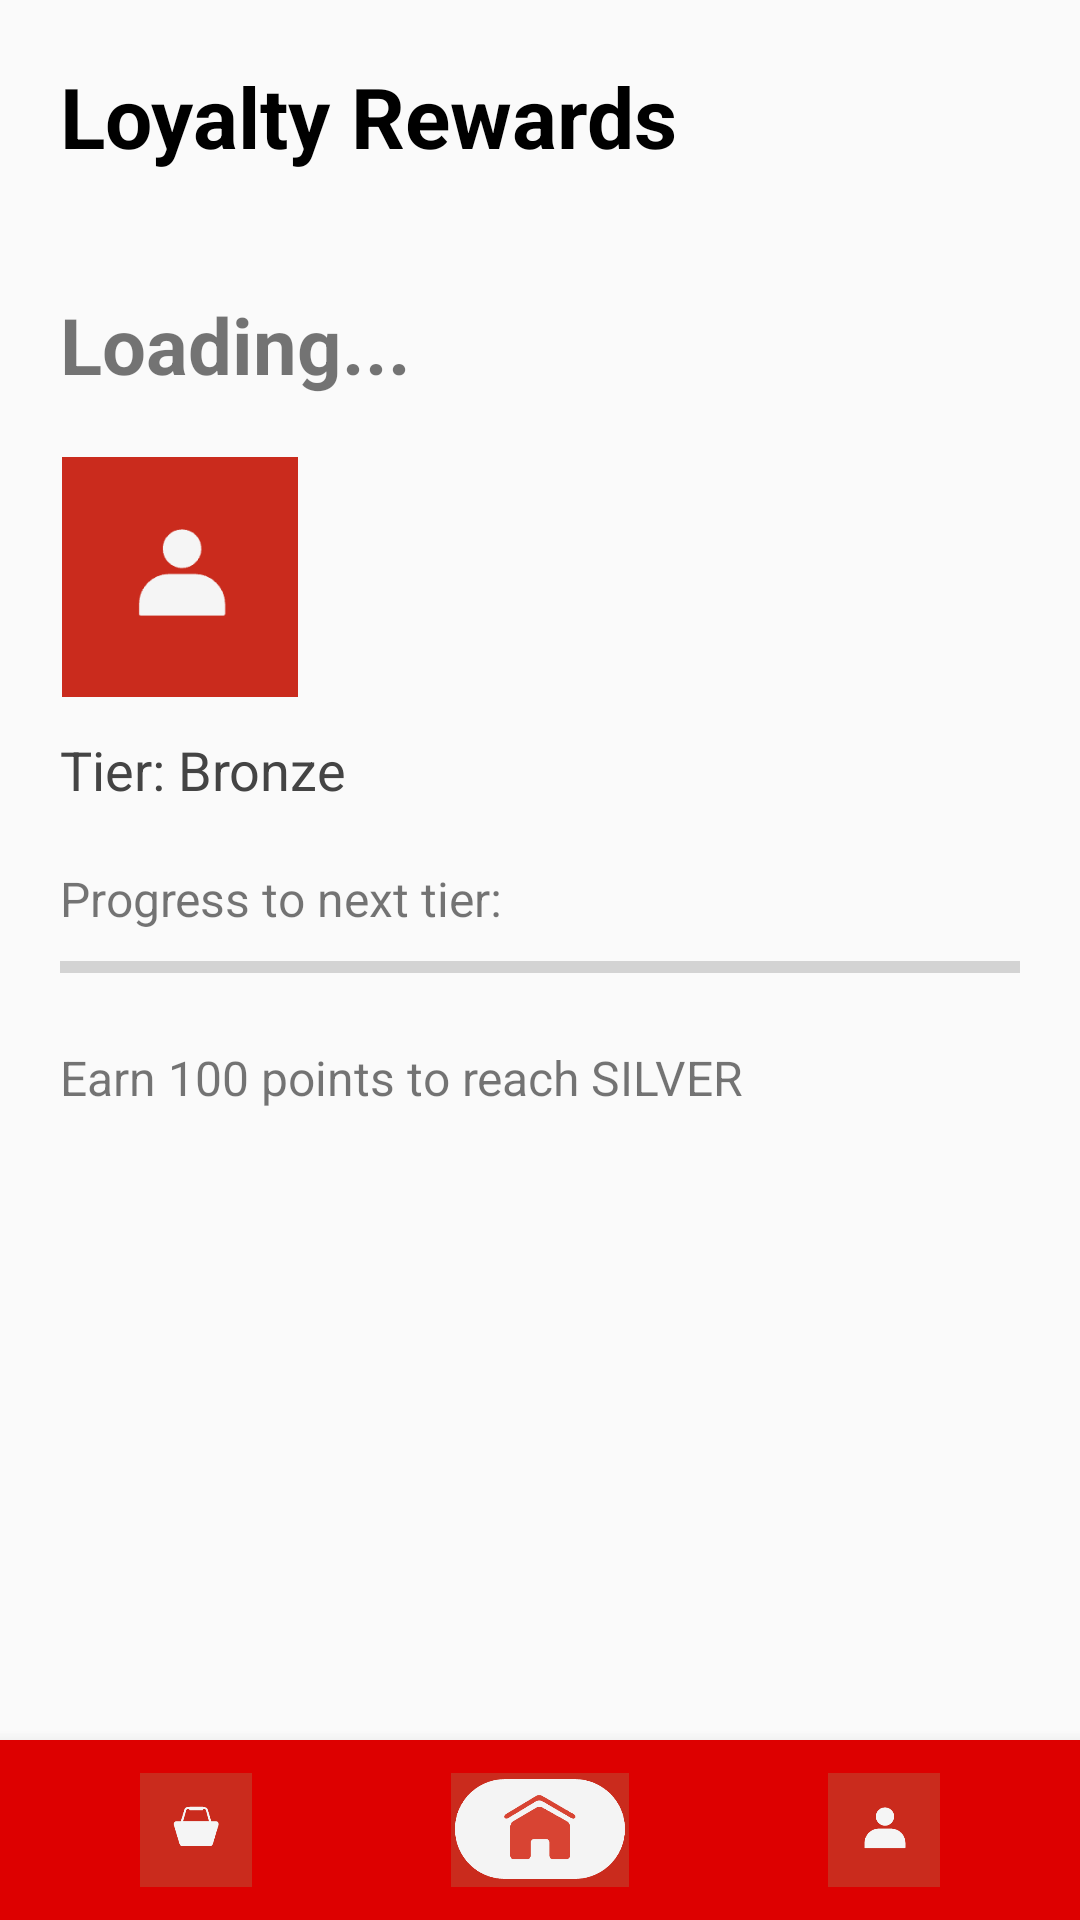

Screen size 1080x1920. Icon name, then its box in pixels as (left=x1, top=y1, right=x2, bottom=y2):
Cart: (left=140, top=1773, right=252, bottom=1887)
Home: (left=451, top=1773, right=629, bottom=1887)
Profile: (left=828, top=1773, right=940, bottom=1887)
user: (left=62, top=457, right=298, bottom=697)
